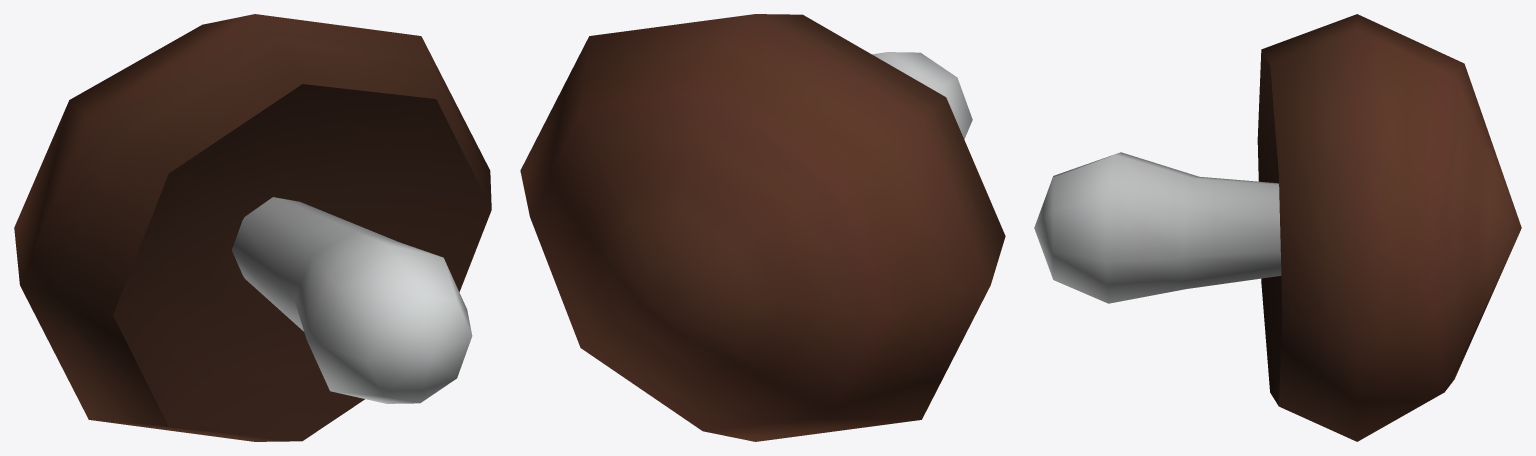
File: Mushroom.fbx
3 views of the same model, side by side, from view 1: azimuth 30°, elevation 25°; view 2: azimuth 150°, elevation 25°; view 3: azimuth 270°, elevation 25° (orthographic). The views are drawn at different scales.
Parts seen in each view (by area): view 1: Mushroom; view 2: Mushroom; view 3: Mushroom.
Part boxes in pixels (box(x1,y1,x2,y2)): Mushroom: box(14, 14, 491, 441); Mushroom: box(520, 14, 1005, 441); Mushroom: box(1034, 14, 1521, 441).
Bounding box in the file's own units: 8.13 × 7.93 × 7.07.
